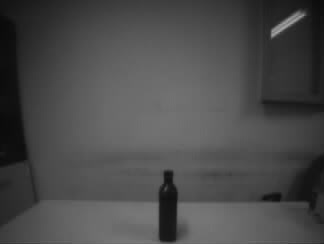Bottle: (158, 170, 178, 241)
